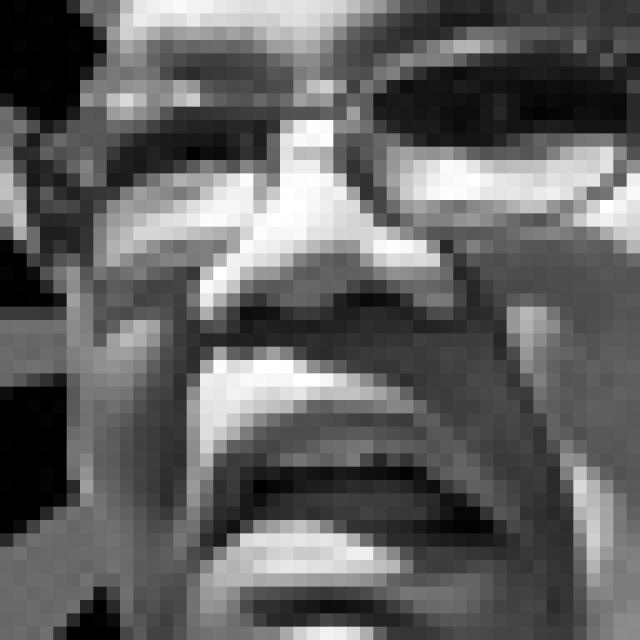disgust: (90, 0, 640, 627)
